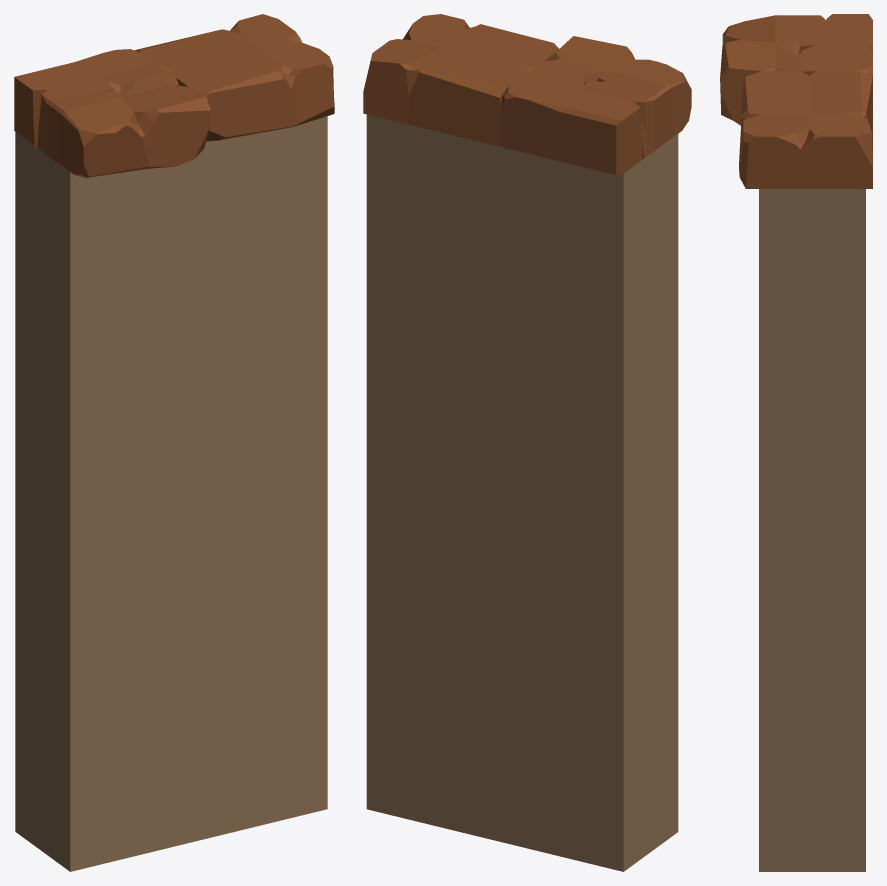
Rendered from duvar2.fbx.
3 views of the same model, side by side, from view 1: azimuth 30°, elevation 25°; view 2: azimuth 150°, elevation 25°; view 3: azimuth 270°, elevation 25° (orthographic). The views are drawn at different scales.
Visible parts, largest first — view 1: duvar2; view 2: duvar2; view 3: duvar2.
Part boxes in pixels (left/top/right/bottom): duvar2: left=14, top=14, right=334, bottom=871; duvar2: left=363, top=14, right=691, bottom=871; duvar2: left=720, top=14, right=872, bottom=871.
Size of the model in its own units: 1 by 2.81 by 0.5273.
Materials: 1 (1 with a texture image).
